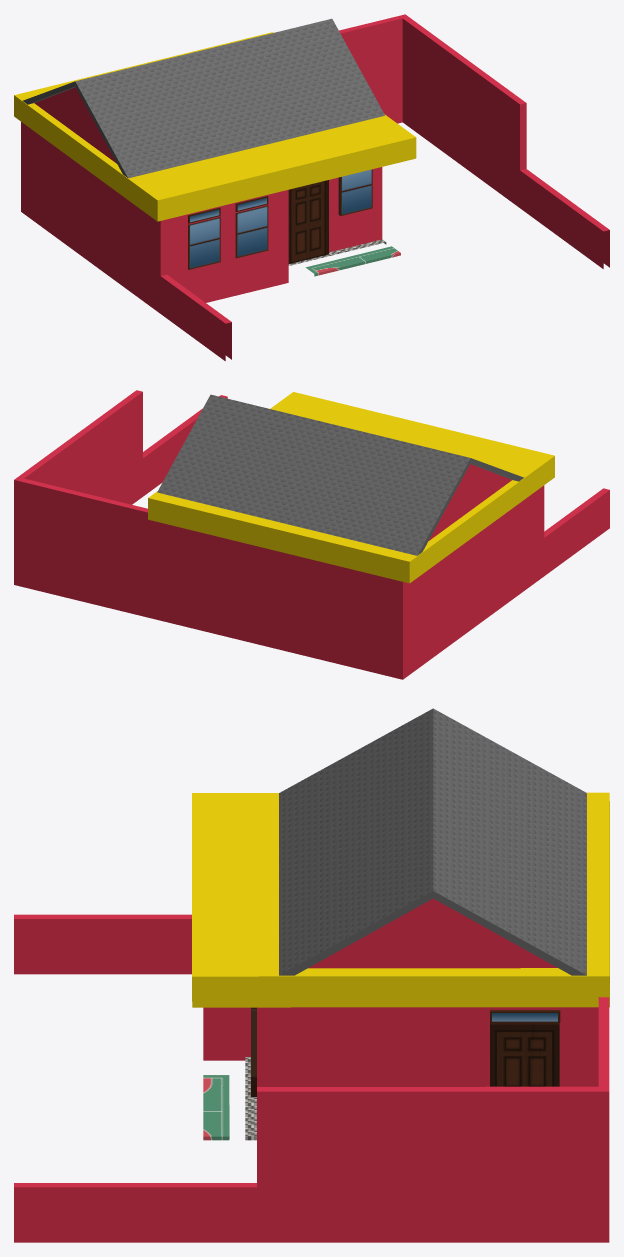
File: Tetangga2.fbx
3 renders of one model, top to bottom at view 1: azimuth 30°, elevation 25°; view 2: azimuth 150°, elevation 25°; view 3: azimuth 270°, elevation 25°, orthographic. The views are drawn at different scales.
Parts seen in each view (by area): view 1: Body1NPCK2_LOD0, Body2NPCK2_LOD0; view 2: Body1NPCK2_LOD0, Body2NPCK2_LOD0; view 3: Body1NPCK2_LOD0, Body2NPCK2_LOD0.
Boxes of the visible parts, <box> form: Body1NPCK2_LOD0: <box>21,14,609,361</box>; Body2NPCK2_LOD0: <box>14,32,416,221</box>; Body1NPCK2_LOD0: <box>14,390,609,679</box>; Body2NPCK2_LOD0: <box>148,392,554,583</box>; Body1NPCK2_LOD0: <box>14,708,609,1242</box>; Body2NPCK2_LOD0: <box>192,792,609,1007</box>.
Size of what is drawn, in the model's own units: 1483 by 639 by 1345.
